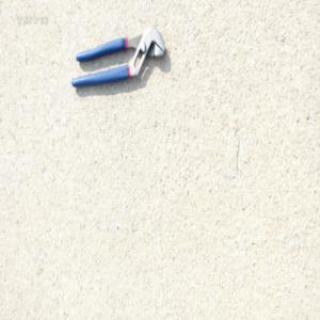Pliertrack_idkeyframe: (70, 23, 166, 89)
